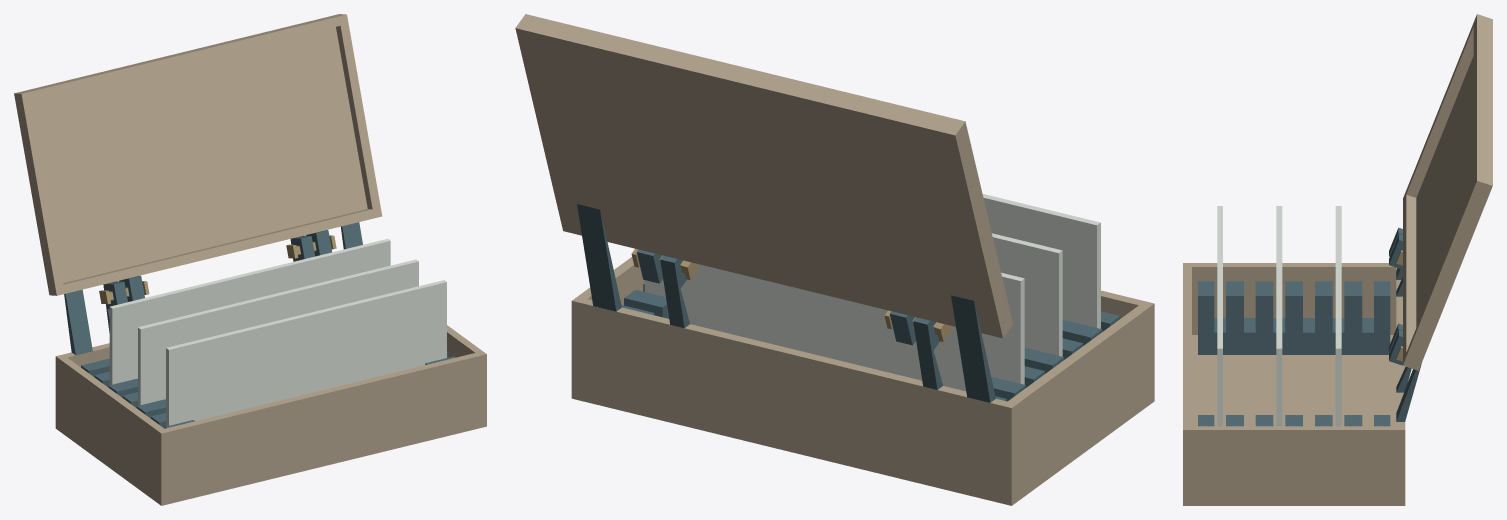
The picture shows the model from 3 angles, left to right: view 1: azimuth 30°, elevation 25°; view 2: azimuth 150°, elevation 25°; view 3: azimuth 270°, elevation 25°; orthographic projection. The views are drawn at different scales.
Parts seen in each view (by area): view 1: CompleteShallowRecessedRaisedLid, ContinuousCaseBottomAndFourWalls, OpaqueBlankPlate1, OpaqueBlankPlate3, OpaqueBlankPlate2, LeftContinuousSixSlotRail, FixedLidAngleStop1; view 2: CompleteShallowRecessedRaisedLid, ContinuousCaseBottomAndFourWalls, OpaqueBlankPlate3, OpaqueBlankPlate1, OpaqueBlankPlate2, FixedLidAngleStop1, FixedLidAngleStop2, LeftContinuousSixSlotRail, Hinge1BodyTrueThroughBoredEarRearWallPedestal, Hinge2BodyTrueThroughBoredEarRearWallPedestal, RightContinuousSixSlotRail; view 3: ContinuousCaseBottomAndFourWalls, CompleteShallowRecessedRaisedLid, LeftContinuousSixSlotRail, OpaqueBlankPlate2, OpaqueBlankPlate3, RightContinuousSixSlotRail, OpaqueBlankPlate1, FixedLidAngleStop2.
Part boxes in pixels (left/top/right/bottom): CompleteShallowRecessedRaisedLid: left=14, top=14, right=382, bottom=295; ContinuousCaseBottomAndFourWalls: left=55, top=325, right=486, bottom=505; OpaqueBlankPlate1: left=166, top=280, right=446, bottom=426; OpaqueBlankPlate3: left=109, top=239, right=390, bottom=384; OpaqueBlankPlate2: left=138, top=259, right=418, bottom=405; LeftContinuousSixSlotRail: left=81, top=358, right=194, bottom=428; FixedLidAngleStop1: left=64, top=289, right=92, bottom=355; CompleteShallowRecessedRaisedLid: left=515, top=14, right=1013, bottom=338; ContinuousCaseBottomAndFourWalls: left=571, top=257, right=1154, bottom=505; OpaqueBlankPlate3: left=644, top=264, right=1024, bottom=391; OpaqueBlankPlate1: left=982, top=194, right=1100, bottom=328; OpaqueBlankPlate2: left=992, top=233, right=1062, bottom=356; FixedLidAngleStop1: left=951, top=295, right=995, bottom=402; FixedLidAngleStop2: left=577, top=204, right=621, bottom=311; LeftContinuousSixSlotRail: left=991, top=311, right=1120, bottom=401; Hinge1BodyTrueThroughBoredEarRearWallPedestal: left=913, top=321, right=942, bottom=389; Hinge2BodyTrueThroughBoredEarRearWallPedestal: left=660, top=259, right=689, bottom=328; RightContinuousSixSlotRail: left=621, top=283, right=669, bottom=318; ContinuousCaseBottomAndFourWalls: left=1183, top=263, right=1405, bottom=505; CompleteShallowRecessedRaisedLid: left=1403, top=14, right=1492, bottom=370; LeftContinuousSixSlotRail: left=1198, top=281, right=1390, bottom=354; OpaqueBlankPlate2: left=1276, top=206, right=1282, bottom=426; OpaqueBlankPlate3: left=1335, top=206, right=1341, bottom=426; RightContinuousSixSlotRail: left=1198, top=415, right=1390, bottom=426; OpaqueBlankPlate1: left=1217, top=206, right=1222, bottom=426; FixedLidAngleStop2: left=1396, top=363, right=1421, bottom=421.
Size of the model in its own units: 0.8 by 0.7271 by 0.6277.
